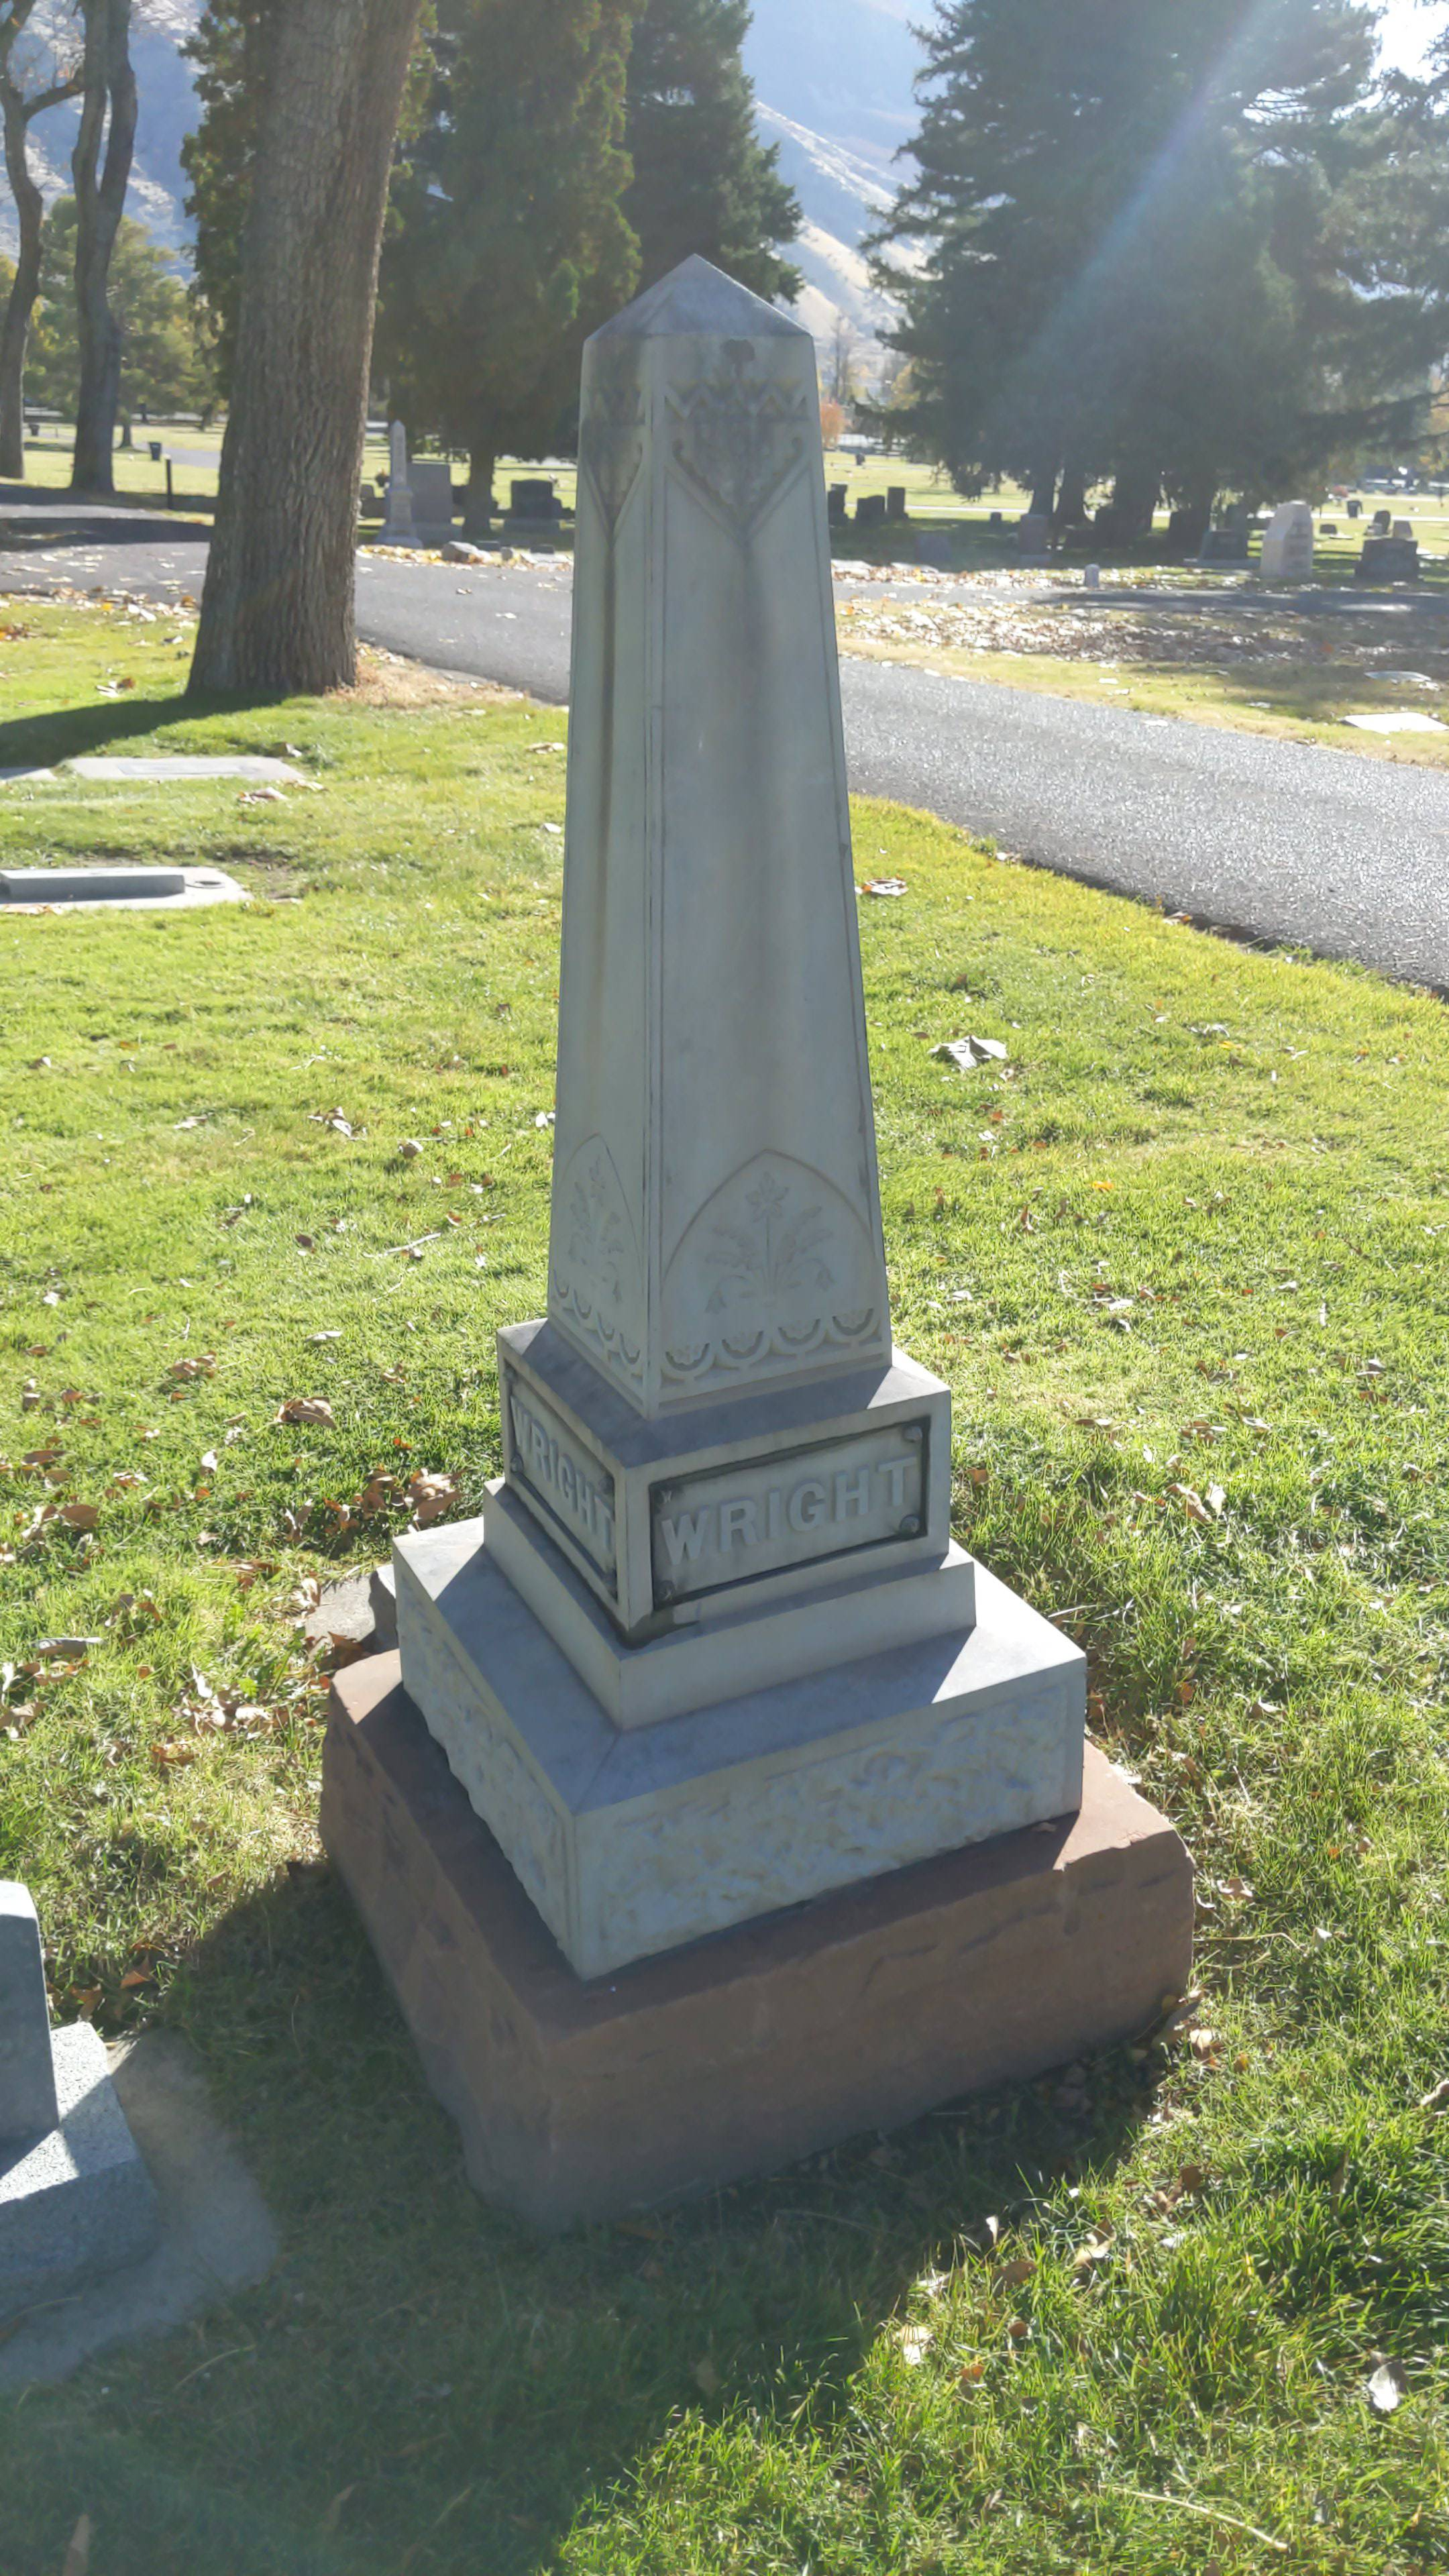obelisk: (497, 255, 966, 1720)
